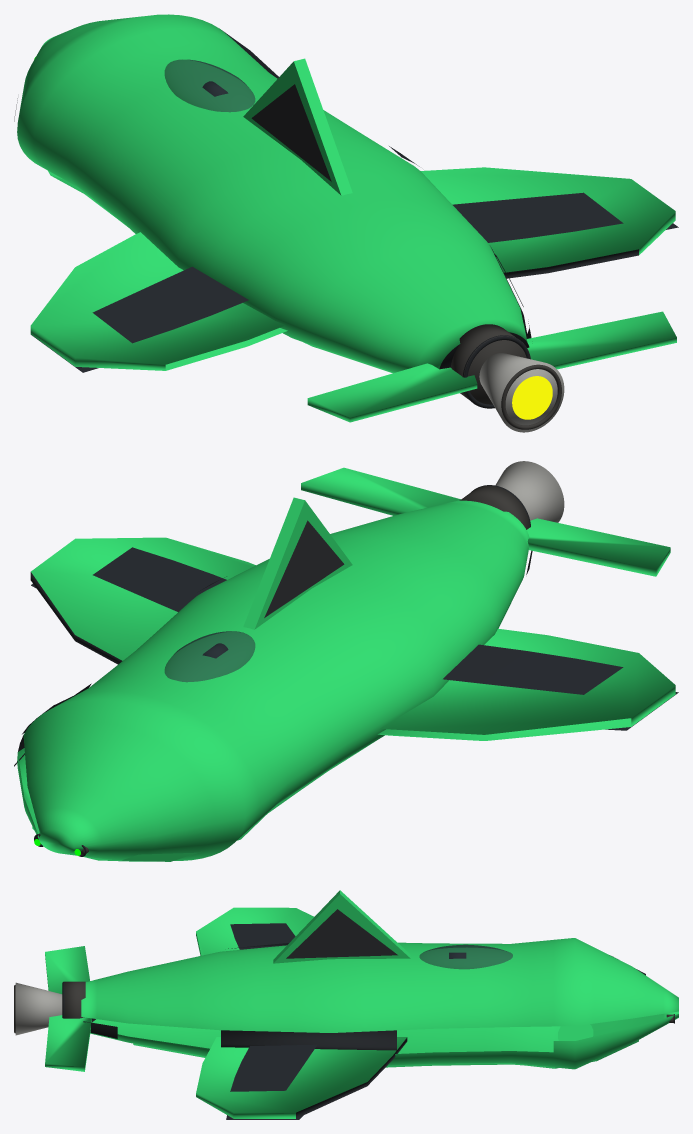
File: Ship_Orca_492814.glb
3 renders of one model, top to bottom at view 1: azimuth 30°, elevation 25°; view 2: azimuth 150°, elevation 25°; view 3: azimuth 270°, elevation 25°, orthographic. The views are drawn at different scales.
Visible parts, largest first — view 1: Fuselage_OrcaCountershadedHull, PectoralFin_Left_AerofoilWingFin, PectoralFin_Right_AerofoilWingFin, PectoralFinPaint_Left_BroadSimplePanelTop, PectoralFinPaint_Right_BroadSimplePanelTop, TailFluke_Left_SweptAftStabilizer, TailFluke_Right_SweptAftStabilizer, DorsalFin_MainSweptKeel, CanopyGlass_LowInsetDome, EngineBell_MainLargeBurnishedNozzle, DorsalFinTrimPatch_LeftFace, EngineMount_AftIntegratedRoundSocket (+3 smaller); view 2: Fuselage_OrcaCountershadedHull, PectoralFin_Left_AerofoilWingFin, PectoralFin_Right_AerofoilWingFin, PectoralFinPaint_Left_BroadSimplePanelTop, TailFluke_Left_SweptAftStabilizer, PectoralFinPaint_Right_BroadSimplePanelTop, TailFluke_Right_SweptAftStabilizer, DorsalFin_MainSweptKeel, CanopyGlass_LowInsetDome, DorsalFinTrimPatch_LeftFace, EngineBell_MainLargeBurnishedNozzle, EngineMount_AftIntegratedRoundSocket (+1 smaller); view 3: Fuselage_OrcaCountershadedHull, PectoralFin_Right_AerofoilWingFin, PectoralFinRoot_Right_BlendedShoulder, PectoralFinPaint_Right_BroadSimplePanelTop, DorsalFinTrimPatch_RightFace, PectoralFin_Left_AerofoilWingFin, DorsalFin_MainSweptKeel, TailFluke_Right_SweptAftStabilizer, EngineBell_MainLargeBurnishedNozzle, CanopyGlass_LowInsetDome, TailFluke_Left_SweptAftStabilizer, PectoralFinPaint_Left_BroadSimplePanelTop (+2 smaller).
Part boxes in pixels (<box>): Fuselage_OrcaCountershadedHull: <box>17,14,529,372</box>; PectoralFin_Left_AerofoilWingFin: <box>30,232,287,370</box>; PectoralFin_Right_AerofoilWingFin: <box>421,167,675,278</box>; PectoralFinPaint_Left_BroadSimplePanelTop: <box>92,266,248,343</box>; PectoralFinPaint_Right_BroadSimplePanelTop: <box>452,192,623,242</box>; TailFluke_Left_SweptAftStabilizer: <box>307,363,477,422</box>; TailFluke_Right_SweptAftStabilizer: <box>527,311,676,369</box>; DorsalFin_MainSweptKeel: <box>243,58,352,195</box>; CanopyGlass_LowInsetDome: <box>164,59,255,112</box>; EngineBell_MainLargeBurnishedNozzle: <box>479,353,564,432</box>; DorsalFinTrimPatch_LeftFace: <box>251,84,331,181</box>; EngineMount_AftIntegratedRoundSocket: <box>451,324,530,408</box>; Fuselage_OrcaCountershadedHull: <box>17,500,529,860</box>; PectoralFin_Left_AerofoilWingFin: <box>378,628,675,740</box>; PectoralFin_Right_AerofoilWingFin: <box>30,537,255,664</box>; PectoralFinPaint_Left_BroadSimplePanelTop: <box>443,644,623,694</box>; TailFluke_Left_SweptAftStabilizer: <box>526,518,670,576</box>; PectoralFinPaint_Right_BroadSimplePanelTop: <box>93,547,226,611</box>; TailFluke_Right_SweptAftStabilizer: <box>301,467,460,515</box>; DorsalFin_MainSweptKeel: <box>243,497,352,629</box>; CanopyGlass_LowInsetDome: <box>164,631,255,682</box>; DorsalFinTrimPatch_LeftFace: <box>264,520,344,617</box>; EngineBell_MainLargeBurnishedNozzle: <box>495,461,564,522</box>; EngineMount_AftIntegratedRoundSocket: <box>459,485,530,529</box>; Fuselage_OrcaCountershadedHull: <box>81,938,678,1069</box>; PectoralFin_Right_AerofoilWingFin: <box>196,1037,407,1118</box>; PectoralFinRoot_Right_BlendedShoulder: <box>221,1030,396,1050</box>; PectoralFinPaint_Right_BroadSimplePanelTop: <box>230,1044,317,1091</box>; DorsalFinTrimPatch_RightFace: <box>286,909,397,958</box>; PectoralFin_Left_AerofoilWingFin: <box>196,907,313,955</box>; DorsalFin_MainSweptKeel: <box>273,890,410,963</box>; TailFluke_Right_SweptAftStabilizer: <box>45,1015,95,1071</box>; EngineBell_MainLargeBurnishedNozzle: <box>15,982,62,1035</box>; CanopyGlass_LowInsetDome: <box>419,944,512,969</box>; TailFluke_Left_SweptAftStabilizer: <box>45,946,89,993</box>; PectoralFinPaint_Left_BroadSimplePanelTop: <box>230,923,295,949</box>.
Bounding box in the file's own units: 5.54 × 2.06 × 7.59.
